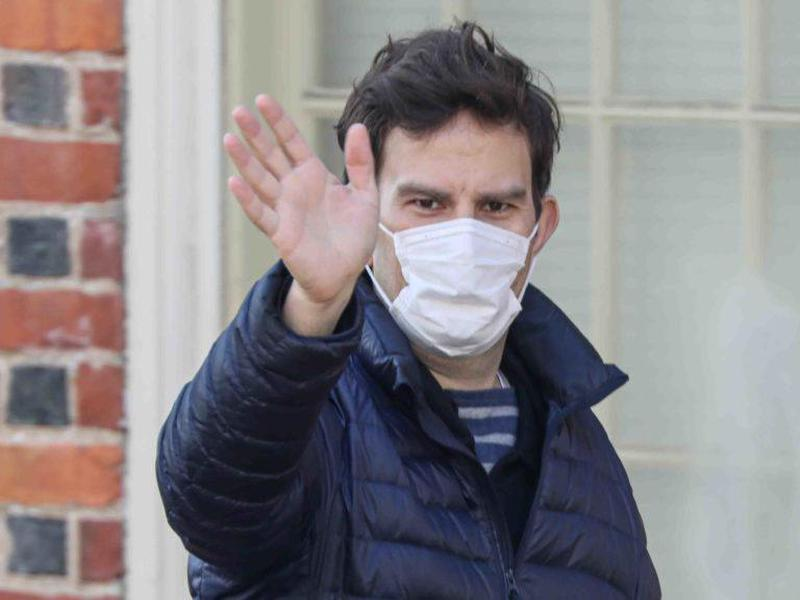with_mask: (371, 123, 543, 360)
